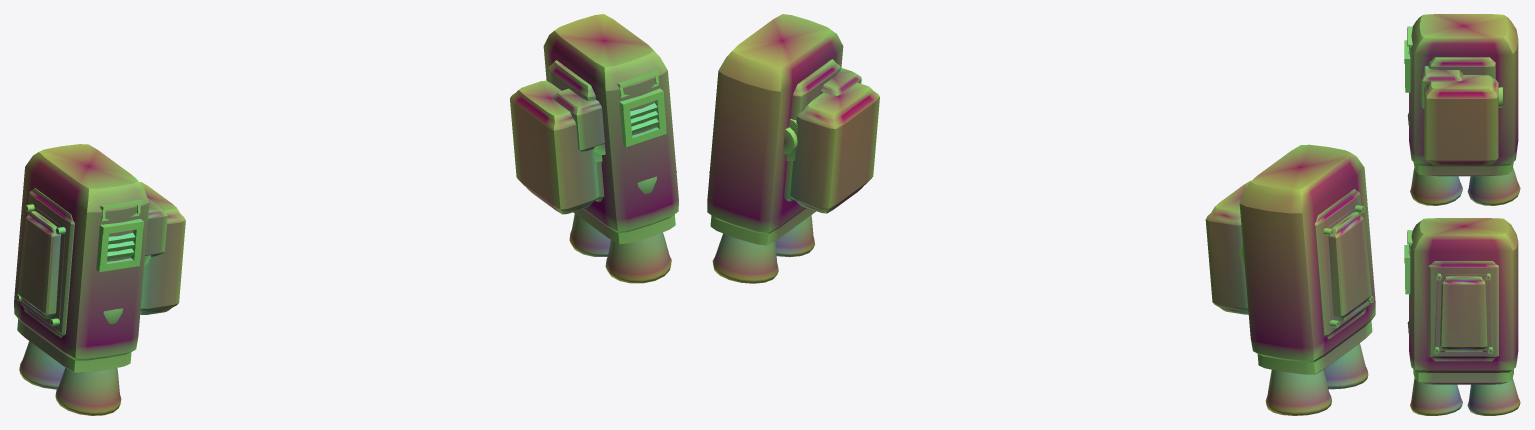
The model's file is llm_gen_leg_thrusters_035_456d46.glb.
3 renders of one model, left to right at view 1: azimuth 30°, elevation 25°; view 2: azimuth 150°, elevation 25°; view 3: azimuth 270°, elevation 25°, orthographic. The views are drawn at different scales.
Visible parts, largest first — view 1: hover_cowling_armor_1_cobalt_anodized_l, hover_cowling_armor_1_cobalt_anodized_r, adapter_calf_clamp_r, hover_flank_panel_5_titanium_silver_l, adapter_calf_clamp_l, hover_bell_fwd_7_vernier_bell_vernier_l, hover_bell_fwd_7_vernier_bell_vernier_r, adapter_sub_hover_flank_dark_4_adapter_dark_l, adapter_leg_knee_mount_dark_9_adapter_dark_r, adapter_sub_hover_manifold_dark_6_adapter_dark_l, adapter_sub_hover_intake_grille_2_dark_r, adapter_sub_hover_intake_grille_2_dark_l (+7 smaller); view 2: hover_cowling_armor_1_cobalt_anodized_l, hover_cowling_armor_1_cobalt_anodized_r, adapter_calf_clamp_r, hover_flank_panel_5_titanium_silver_l, adapter_calf_clamp_l, hover_bell_aft_8_vernier_bell_vernier_l, hover_bell_aft_8_vernier_bell_vernier_r, adapter_sub_hover_flank_dark_4_adapter_dark_l, adapter_sub_hover_manifold_dark_6_adapter_dark_l, hover_core_mount_0_adapter_dark_r, hover_bell_fwd_7_vernier_bell_vernier_l, adapter_sub_hover_manifold_dark_6_adapter_dark_r (+2 smaller); view 3: hover_cowling_armor_1_cobalt_anodized_r, hover_cowling_armor_1_cobalt_anodized_l, adapter_calf_clamp_l, hover_flank_panel_5_titanium_silver_r, adapter_sub_hover_flank_dark_4_adapter_dark_r, hover_bell_aft_8_vernier_bell_vernier_r, hover_bell_fwd_7_vernier_bell_vernier_r, hover_bell_aft_8_vernier_bell_vernier_l, hover_bell_fwd_7_vernier_bell_vernier_l, adapter_sub_hover_manifold_dark_6_adapter_dark_r, hover_core_mount_0_adapter_dark_l, adapter_sub_hover_manifold_dark_6_adapter_dark_l (+4 smaller).
Part boxes in pixels (left/top/right/bottom): hover_cowling_armor_1_cobalt_anodized_l: left=14, top=144, right=149, bottom=360; hover_cowling_armor_1_cobalt_anodized_r: left=543, top=14, right=678, bottom=233; adapter_calf_clamp_r: left=510, top=80, right=602, bottom=214; hover_flank_panel_5_titanium_silver_l: left=16, top=204, right=65, bottom=325; adapter_calf_clamp_l: left=139, top=182, right=185, bottom=314; hover_bell_fwd_7_vernier_bell_vernier_l: left=55, top=367, right=121, bottom=415; hover_bell_fwd_7_vernier_bell_vernier_r: left=605, top=232, right=671, bottom=283; adapter_sub_hover_flank_dark_4_adapter_dark_l: left=20, top=188, right=74, bottom=337; adapter_leg_knee_mount_dark_9_adapter_dark_r: left=552, top=88, right=604, bottom=151; adapter_sub_hover_manifold_dark_6_adapter_dark_l: left=17, top=319, right=131, bottom=372; adapter_sub_hover_intake_grille_2_dark_r: left=619, top=88, right=666, bottom=147; adapter_sub_hover_intake_grille_2_dark_l: left=96, top=219, right=143, bottom=271; hover_cowling_armor_1_cobalt_anodized_l: left=1239, top=144, right=1375, bottom=362; hover_cowling_armor_1_cobalt_anodized_r: left=707, top=14, right=843, bottom=234; adapter_calf_clamp_r: left=786, top=82, right=879, bottom=213; hover_flank_panel_5_titanium_silver_l: left=1323, top=205, right=1373, bottom=327; adapter_calf_clamp_l: left=1205, top=180, right=1251, bottom=314; hover_bell_aft_8_vernier_bell_vernier_l: left=1265, top=370, right=1331, bottom=415; hover_bell_aft_8_vernier_bell_vernier_r: left=712, top=233, right=778, bottom=283; adapter_sub_hover_flank_dark_4_adapter_dark_l: left=1314, top=189, right=1369, bottom=339; adapter_sub_hover_manifold_dark_6_adapter_dark_l: left=1257, top=320, right=1372, bottom=374; hover_core_mount_0_adapter_dark_r: left=784, top=59, right=840, bottom=201; hover_bell_fwd_7_vernier_bell_vernier_l: left=1323, top=343, right=1368, bottom=389; adapter_sub_hover_manifold_dark_6_adapter_dark_r: left=710, top=208, right=815, bottom=245; hover_cowling_armor_1_cobalt_anodized_r: left=1409, top=218, right=1518, bottom=372; hover_cowling_armor_1_cobalt_anodized_l: left=1409, top=14, right=1518, bottom=166; adapter_calf_clamp_l: left=1424, top=75, right=1498, bottom=165; hover_flank_panel_5_titanium_silver_r: left=1434, top=273, right=1493, bottom=353; adapter_sub_hover_flank_dark_4_adapter_dark_r: left=1428, top=261, right=1498, bottom=361; hover_bell_aft_8_vernier_bell_vernier_r: left=1467, top=378, right=1520, bottom=415; hover_bell_fwd_7_vernier_bell_vernier_r: left=1410, top=378, right=1462, bottom=415; hover_bell_aft_8_vernier_bell_vernier_l: left=1467, top=167, right=1520, bottom=205; hover_bell_fwd_7_vernier_bell_vernier_l: left=1410, top=168, right=1462, bottom=205; adapter_sub_hover_manifold_dark_6_adapter_dark_r: left=1413, top=369, right=1513, bottom=384; hover_core_mount_0_adapter_dark_l: left=1428, top=57, right=1495, bottom=79; adapter_sub_hover_manifold_dark_6_adapter_dark_l: left=1413, top=163, right=1513, bottom=176.
Size of the model in its own units: 85.38 by 29.02 by 17.12.
